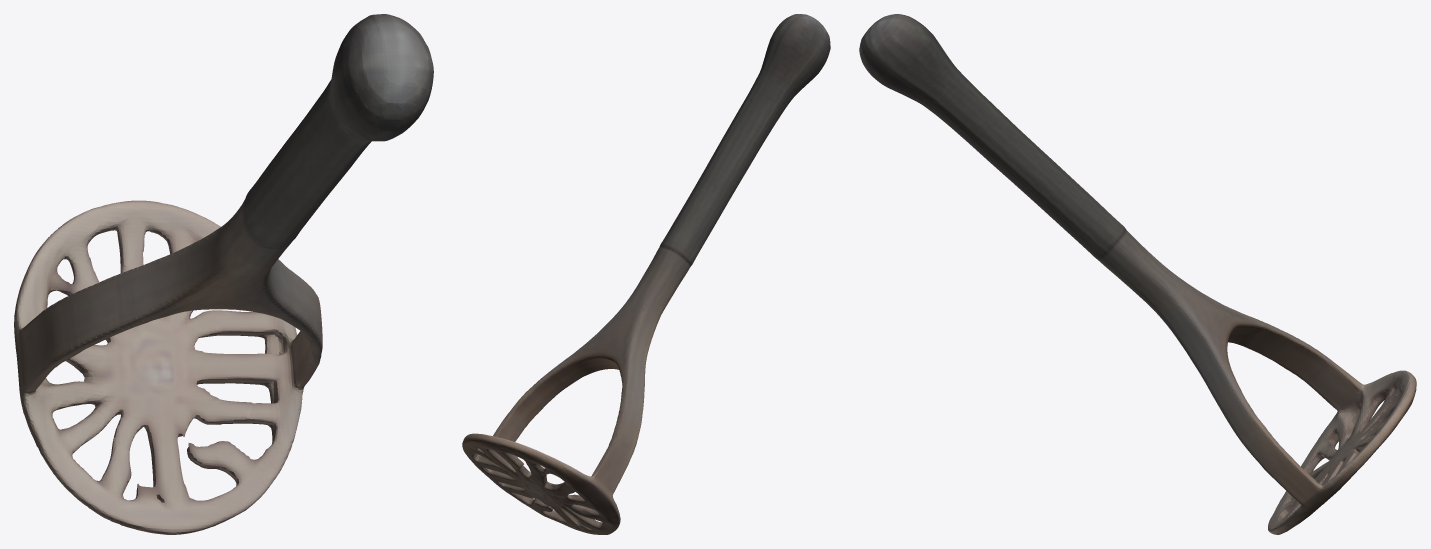
The model's file is frame_0075_source_000075_object.glb.
The picture shows the model from 3 angles, left to right: view 1: azimuth 30°, elevation 25°; view 2: azimuth 150°, elevation 25°; view 3: azimuth 270°, elevation 25°; orthographic projection. The views are drawn at different scales.
Visible parts, largest first — view 1: world; view 2: world; view 3: world.
Boxes of the visible parts, <box> form: world: <box>14,14,433,534</box>; world: <box>462,14,830,534</box>; world: <box>859,14,1416,534</box>.
Size of the model in its own units: 0.0842 by 0.2035 by 0.2164.
